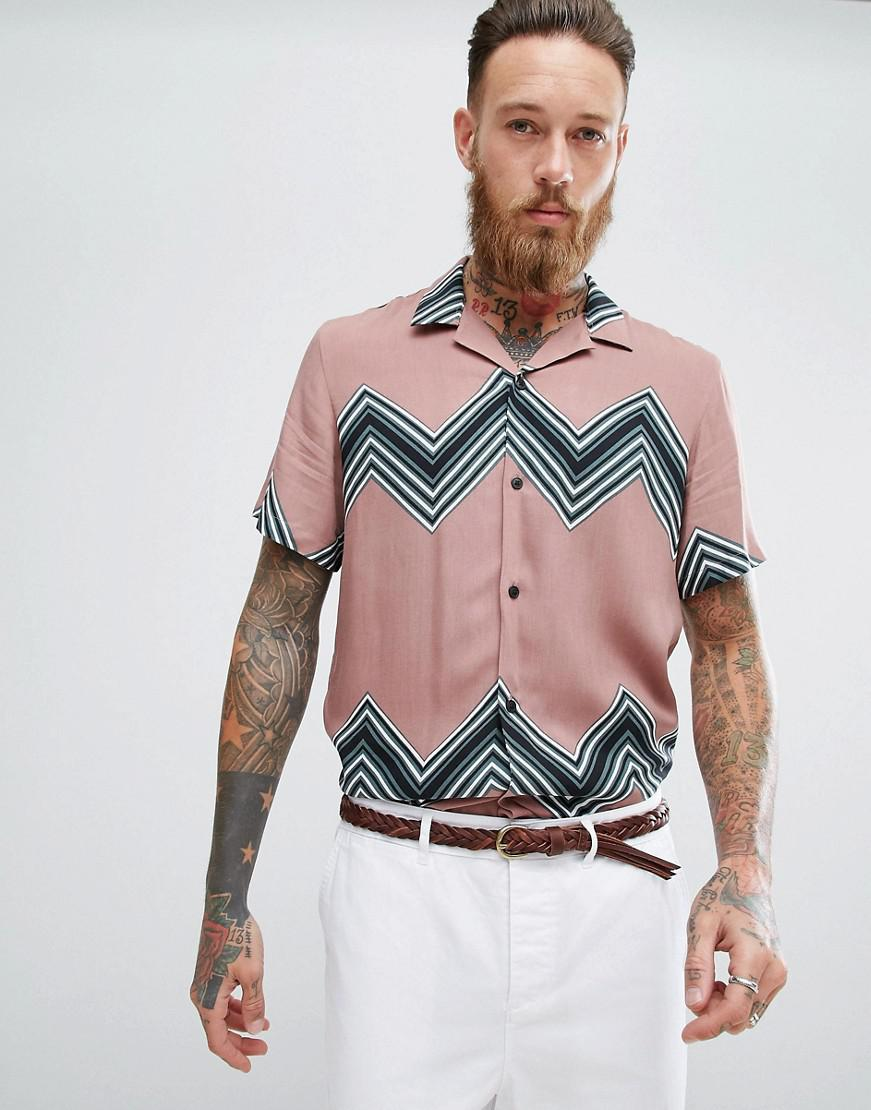teeshirt: (244, 239, 788, 851)
